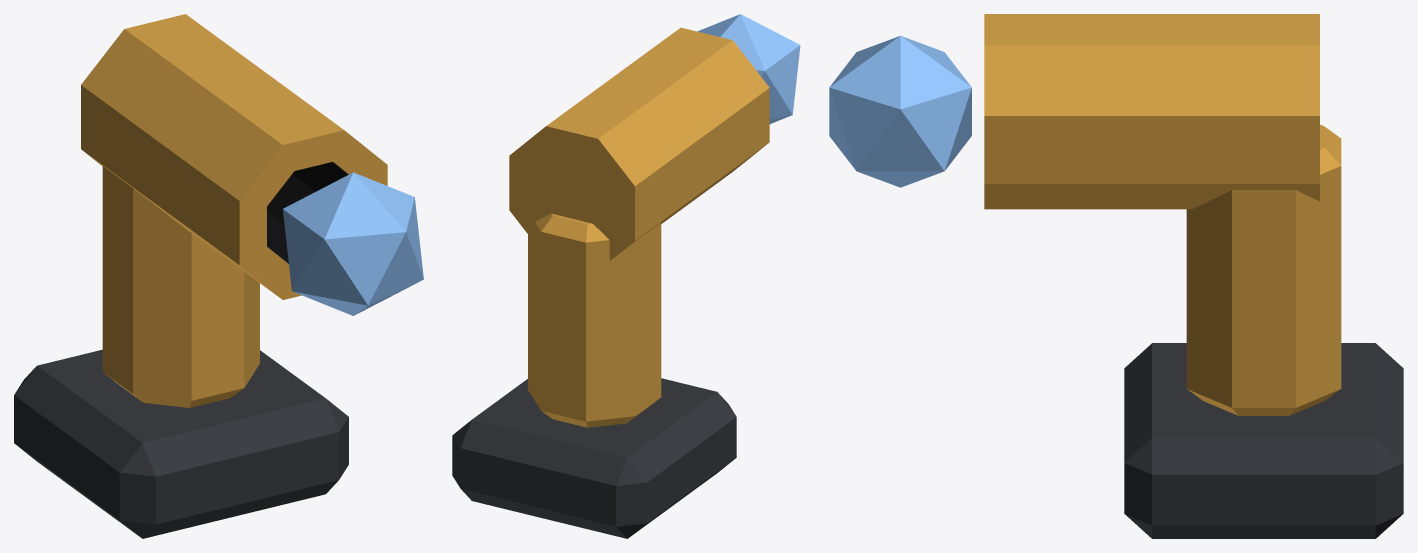
File: BubbleBarrel.obj
3 renders of one model, left to right at view 1: azimuth 30°, elevation 25°; view 2: azimuth 150°, elevation 25°; view 3: azimuth 270°, elevation 25°, orthographic. The views are drawn at different scales.
Parts seen in each view (by area): view 1: BubbleBarrel; view 2: BubbleBarrel; view 3: BubbleBarrel.
Boxes of the visible parts, x1=… form: BubbleBarrel: x1=14, y1=14, x2=423, y2=538; BubbleBarrel: x1=452, y1=14, x2=800, y2=538; BubbleBarrel: x1=829, y1=14, x2=1403, y2=538.
Bounding box in the file's own units: 0.12 × 0.2188 × 0.2466.
